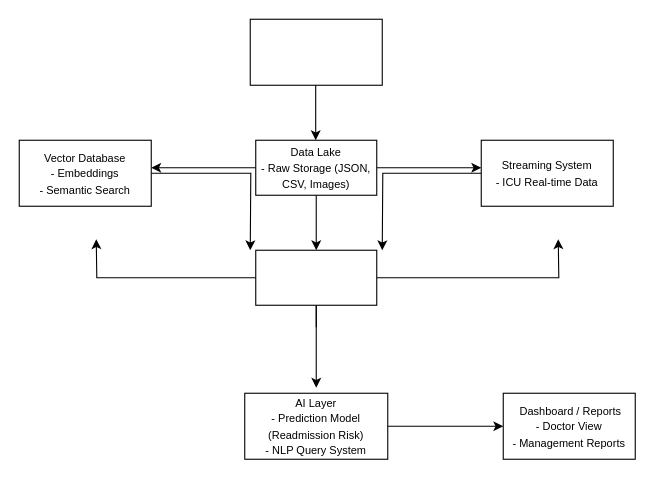
Image size: 655x479. Some labels were removed from this diagram. Each missing label, with the centre of its shape:
Data Sources - Patient Records (DB) - ICU Devices (Real-time) - Logs / Reports: [315,51]
Data Warehouse - Cleaned Data - Analytics Ready: [316,277]
